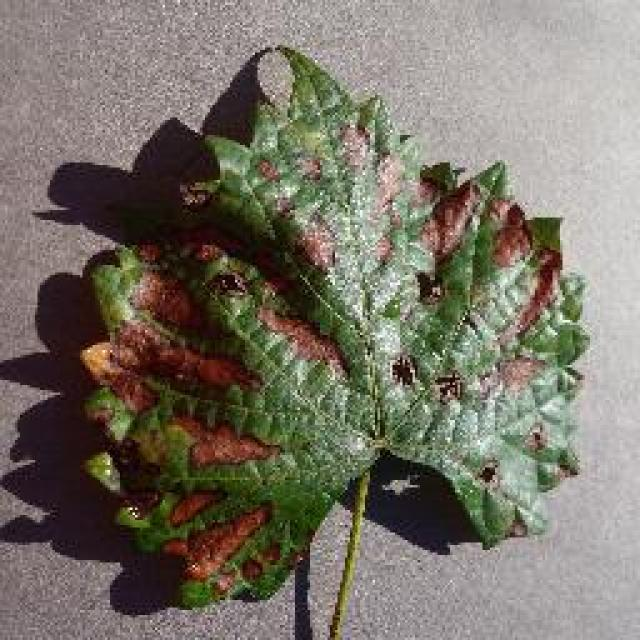Black_Measles: (77, 36, 628, 616)
